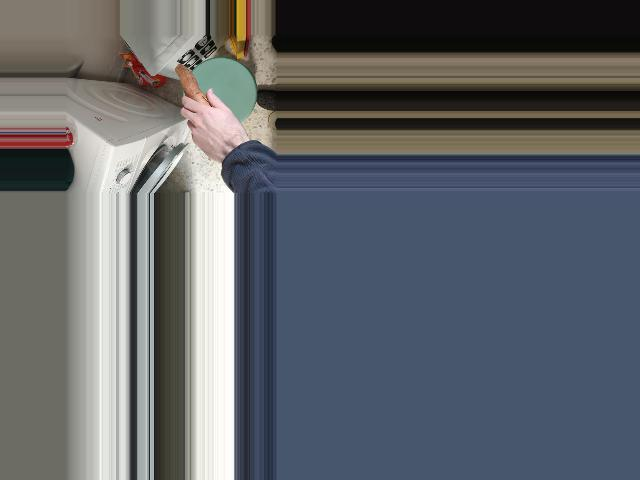sweet_potato: (174, 67, 229, 139)
